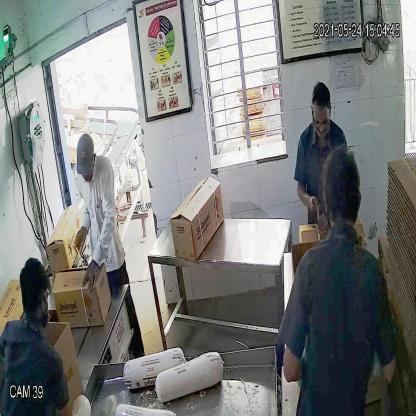goggles: (311, 111, 333, 133)
